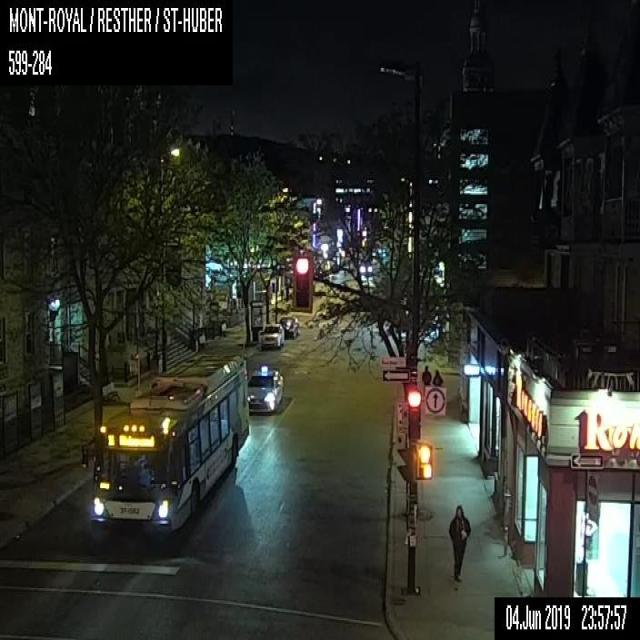bus: (93, 352, 249, 530)
pedestrian: (448, 505, 470, 582), (421, 364, 431, 385), (432, 368, 442, 385)
vehicle: (248, 365, 282, 413), (260, 323, 284, 347), (279, 315, 298, 338)
